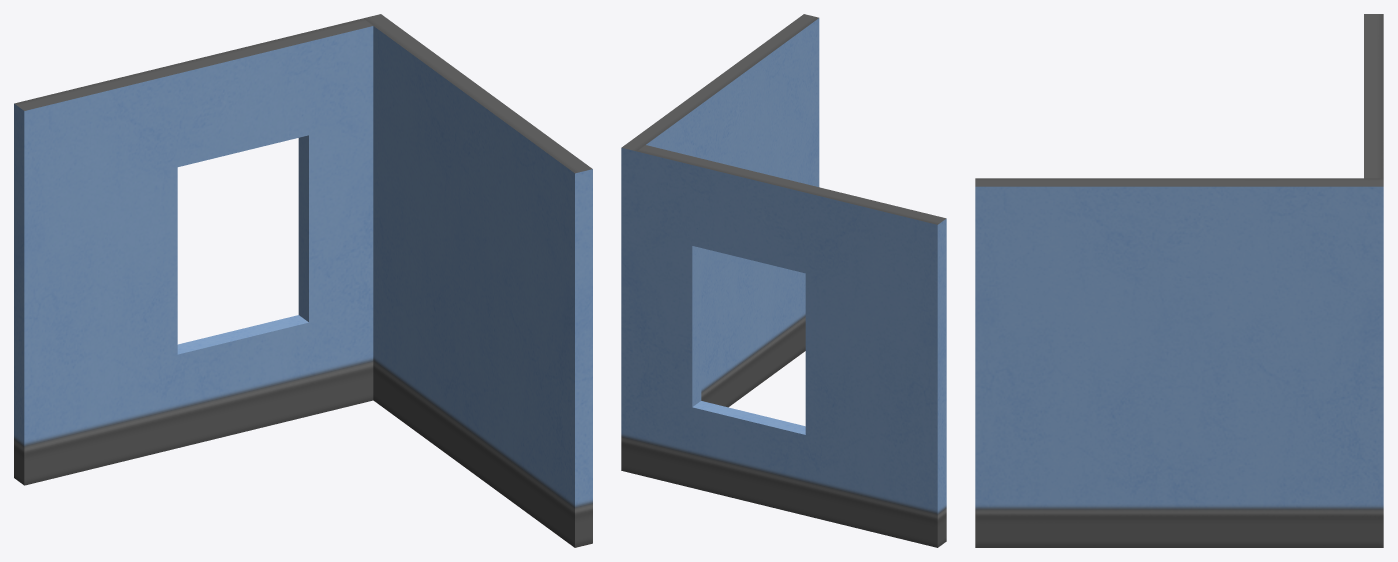
Rendered from Wall_6_Corner_D.fbx.
The picture shows the model from 3 angles, left to right: view 1: azimuth 30°, elevation 25°; view 2: azimuth 150°, elevation 25°; view 3: azimuth 270°, elevation 25°; orthographic projection. The views are drawn at different scales.
Visible parts, largest first — view 1: polySurface41; view 2: polySurface41; view 3: polySurface41.
Boxes of the visible parts, x1,y1,x2,y2 form: polySurface41: [14, 14, 592, 547]; polySurface41: [621, 14, 946, 547]; polySurface41: [975, 14, 1383, 547].
Bounding box in the file's own units: 4.1 × 4 × 4.1.
